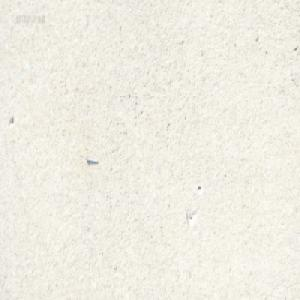Nail: (85, 154, 98, 163)
